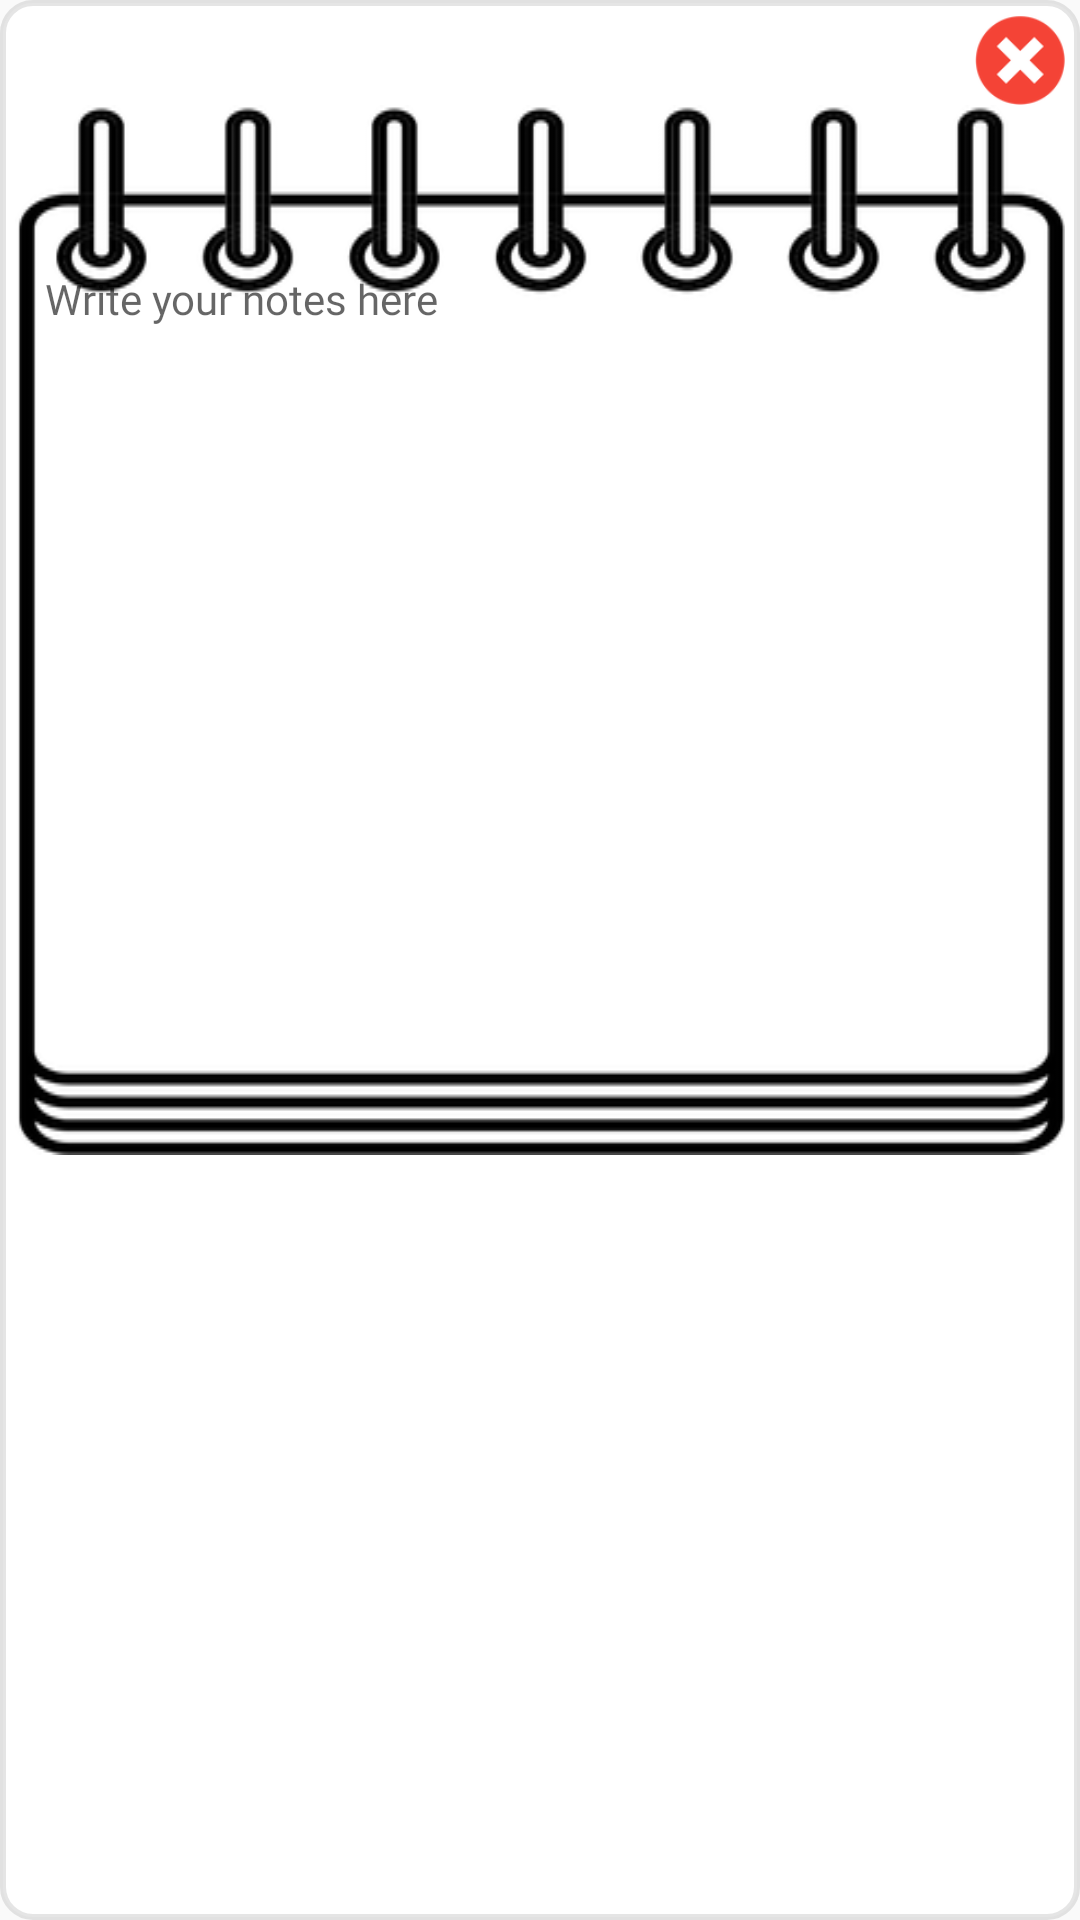

Icon click points for this 1080px x 1920px phone screenshot, format (x=x, y=y):
close: (x=1020, y=60)
